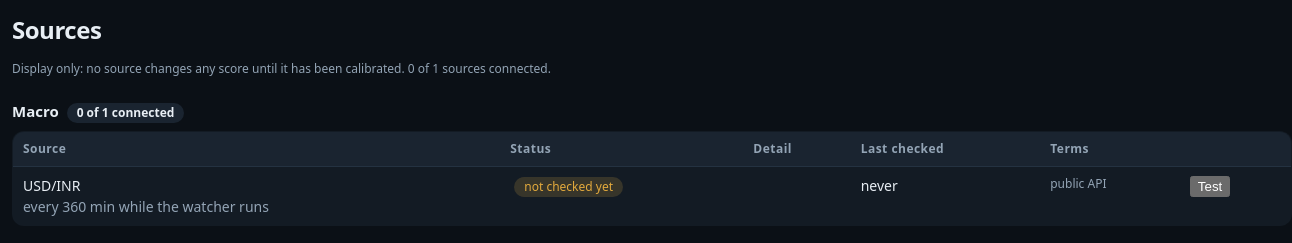
Test: sources view › shows status per source, says display-only, and Test refreshes the row
Expected: the text with test id "sources-note" shows "Display only", [12,60,405,77]
Expected: the text with test id "source-status" reads "not checked yet", [524,178,613,195]
Click the button "Test" at (1210, 186), box [1190,176,1230,197]
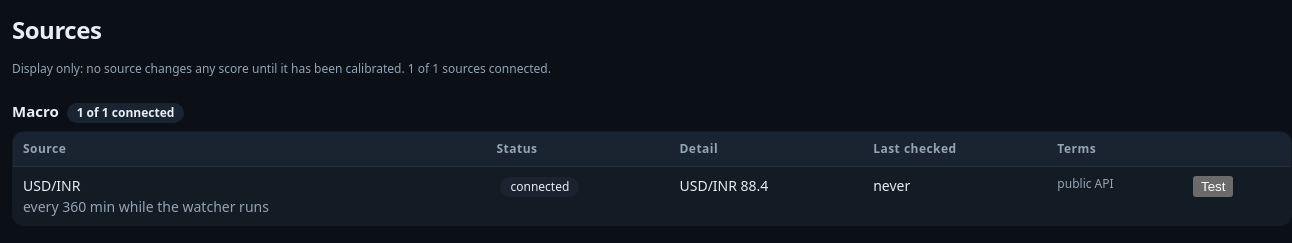
Now the text "connected" is shown, box [500,177,579,197]
Now the text "USD/INR 88.4" is shown, box [670,166,863,226]
